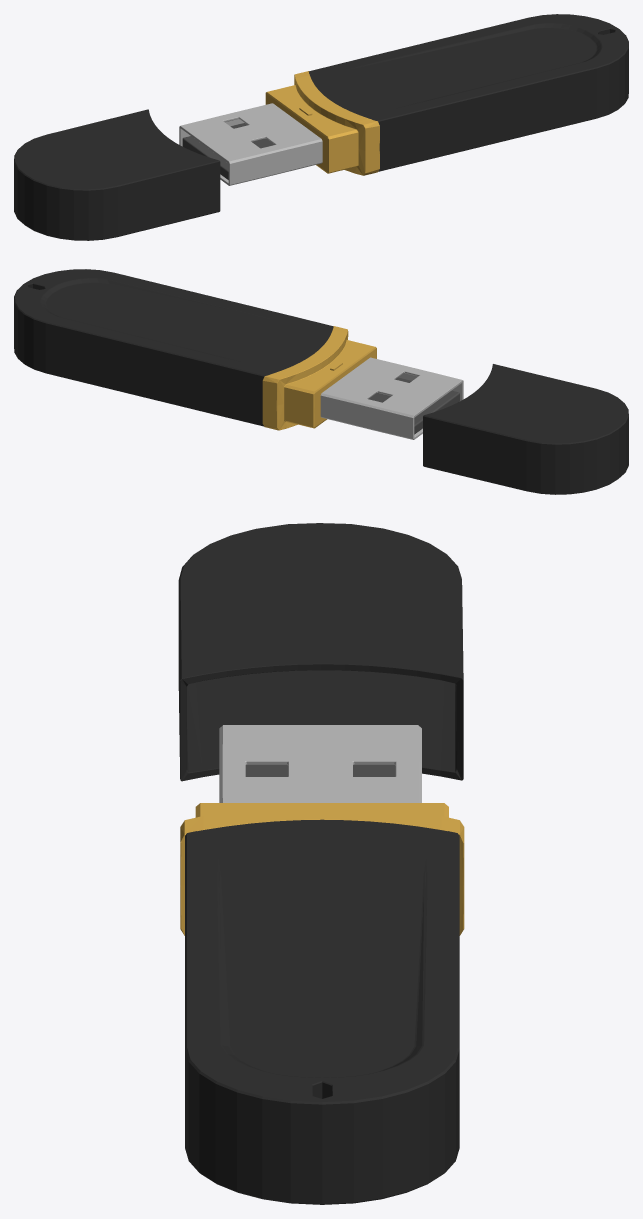
The picture shows the model from 3 angles, top to bottom: view 1: azimuth 30°, elevation 25°; view 2: azimuth 150°, elevation 25°; view 3: azimuth 270°, elevation 25°; orthographic projection. The views are drawn at different scales.
Parts seen in each view (by area): view 1: Transcenf, Transcenf0, Transcenf2, Transcenf3, Transcenf1; view 2: Transcenf, Transcenf0, Transcenf2, Transcenf3, Transcenf1; view 3: Transcenf, Transcenf0, Transcenf2, Transcenf3, Transcenf1.
Boxes of the visible parts, bbox=[...] form: Transcenf: bbox=[308, 14, 628, 171]; Transcenf0: bbox=[14, 109, 220, 240]; Transcenf2: bbox=[179, 103, 322, 185]; Transcenf3: bbox=[265, 71, 379, 175]; Transcenf1: bbox=[182, 123, 274, 179]; Transcenf: bbox=[14, 269, 333, 426]; Transcenf0: bbox=[423, 364, 628, 494]; Transcenf2: bbox=[320, 357, 463, 439]; Transcenf3: bbox=[262, 326, 376, 430]; Transcenf1: bbox=[368, 377, 459, 434]; Transcenf: bbox=[185, 819, 459, 1204]; Transcenf0: bbox=[178, 523, 463, 781]; Transcenf2: bbox=[219, 725, 421, 802]; Transcenf3: bbox=[180, 803, 464, 935]; Transcenf1: bbox=[245, 765, 395, 776].
Bounding box in the file's own units: 728 × 60.16 × 151.
